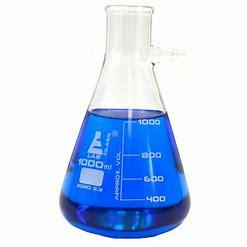Titrarion: (40, 0, 196, 238)
